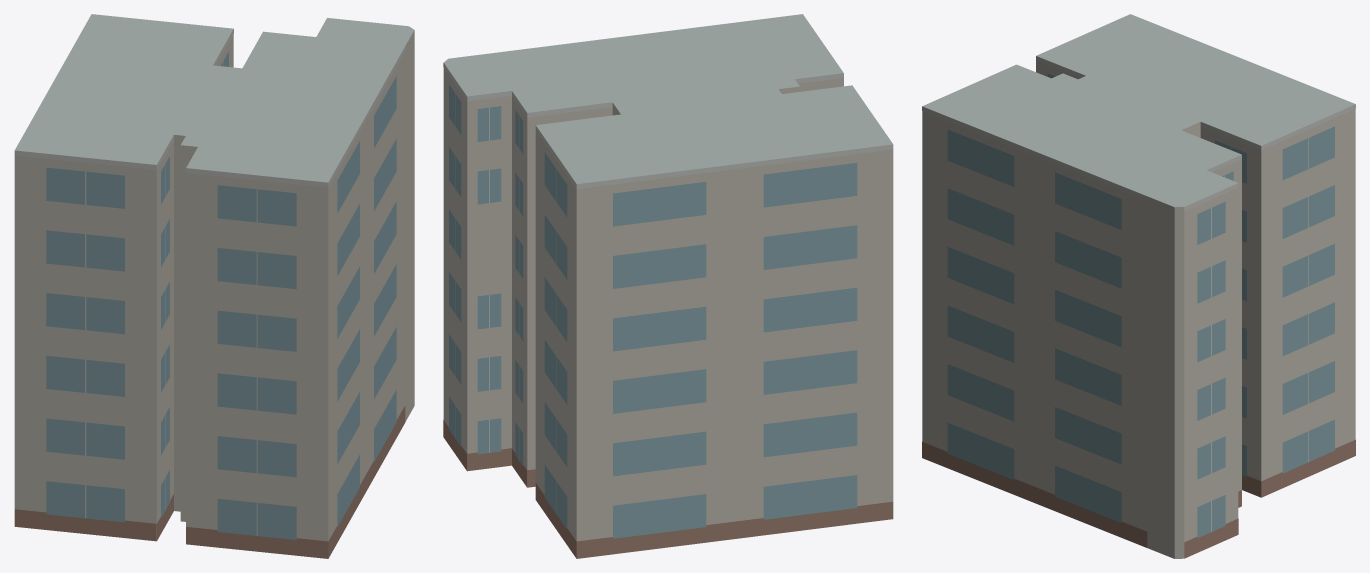
The model's file is survey-upis-32658145.glb.
The picture shows the model from 3 angles, left to right: view 1: azimuth 30°, elevation 25°; view 2: azimuth 150°, elevation 25°; view 3: azimuth 270°, elevation 25°; orthographic projection. The views are drawn at different scales.
Parts seen in each view (by area): view 1: survey-upis-32658145.tmp; view 2: survey-upis-32658145.tmp; view 3: survey-upis-32658145.tmp.
Part boxes in pixels (box(x1,y1,x2,y2)): survey-upis-32658145.tmp: box(14, 14, 414, 558); survey-upis-32658145.tmp: box(443, 14, 893, 558); survey-upis-32658145.tmp: box(922, 14, 1355, 558).
Size of the model in its own units: 21.91 by 18.6 by 20.79.
